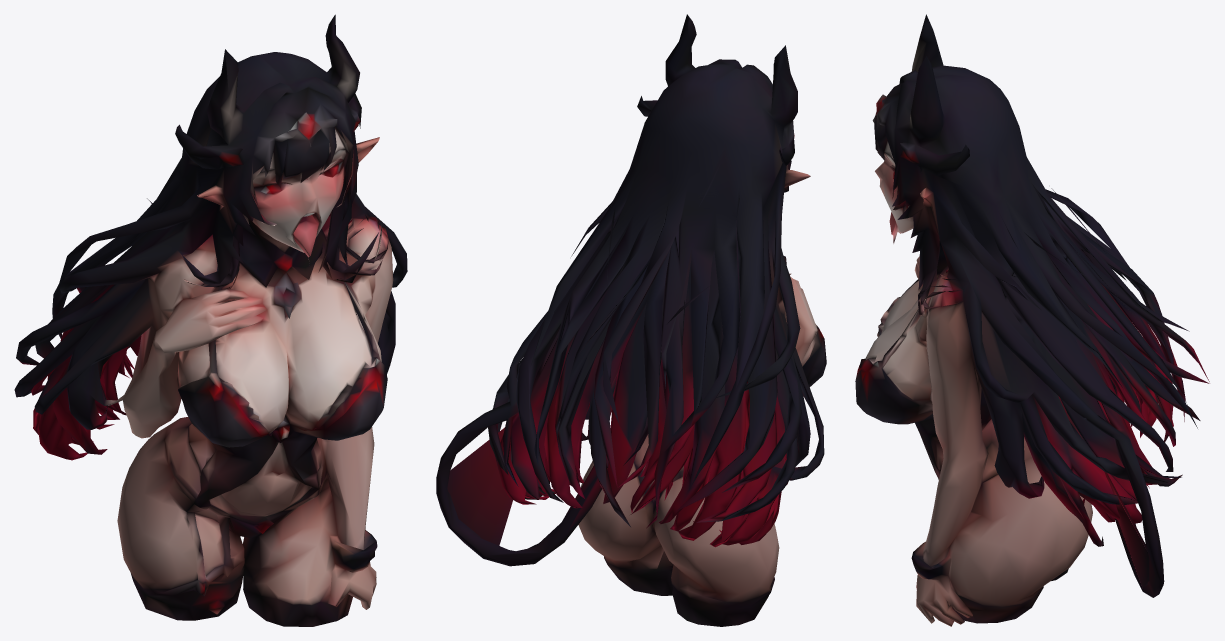
File: 01a1a2e0-870a-7974-9a57-5755efe8a577.glb
3 views of the same model, side by side, from view 1: azimuth 30°, elevation 25°; view 2: azimuth 150°, elevation 25°; view 3: azimuth 270°, elevation 25° (orthographic). The views are drawn at different scales.
Visible parts, largest first — view 1: node_0; view 2: node_0; view 3: node_0.
Boxes of the visible parts, bbox=[...] form: node_0: bbox=[14, 14, 407, 626]; node_0: bbox=[436, 14, 826, 626]; node_0: bbox=[855, 14, 1209, 626].
Size of the model in its own units: 0.7234 by 1.11 by 0.645.
